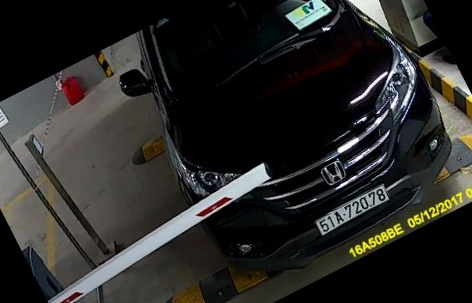plate: (306, 162, 388, 237)
